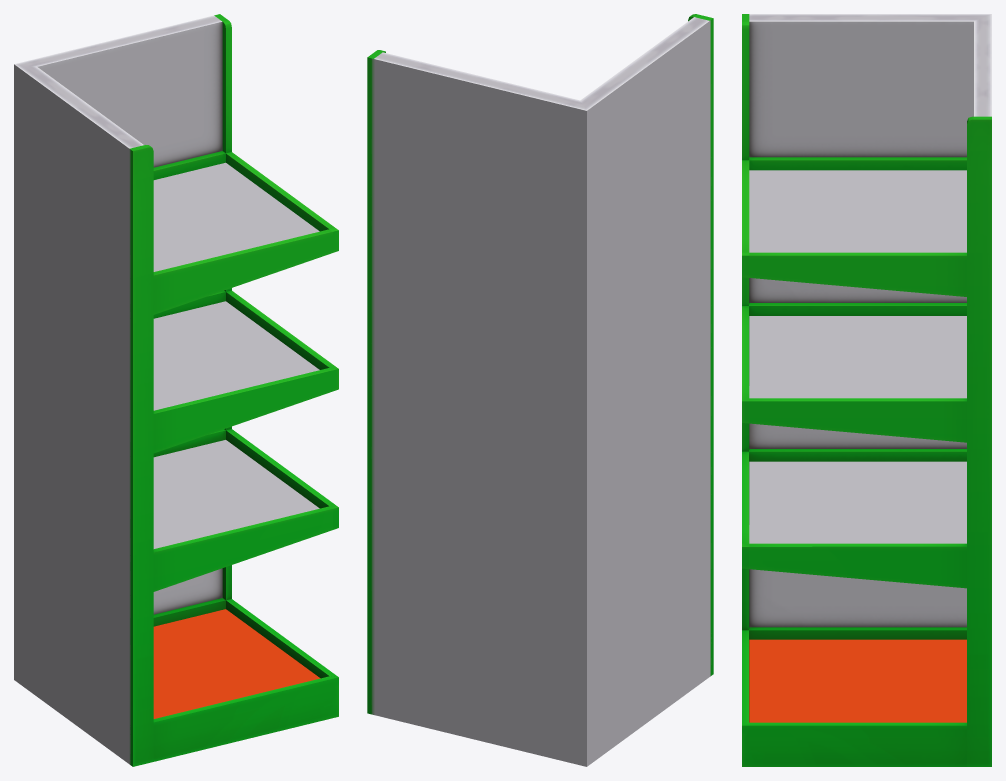
File: CommShelving01_2.FBX
3 views of the same model, side by side, from view 1: azimuth 30°, elevation 25°; view 2: azimuth 150°, elevation 25°; view 3: azimuth 270°, elevation 25° (orthographic). The views are drawn at different scales.
Parts seen in each view (by area): view 1: CommShelving01_2; view 2: CommShelving01_2; view 3: CommShelving01_2.
Part boxes in pixels (x1,y1,x2,y2): CommShelving01_2: [14, 14, 338, 766]; CommShelving01_2: [367, 14, 713, 766]; CommShelving01_2: [742, 14, 991, 766].
Size of what is drawn, in the model's own units: 0.7 by 2 by 0.7.
